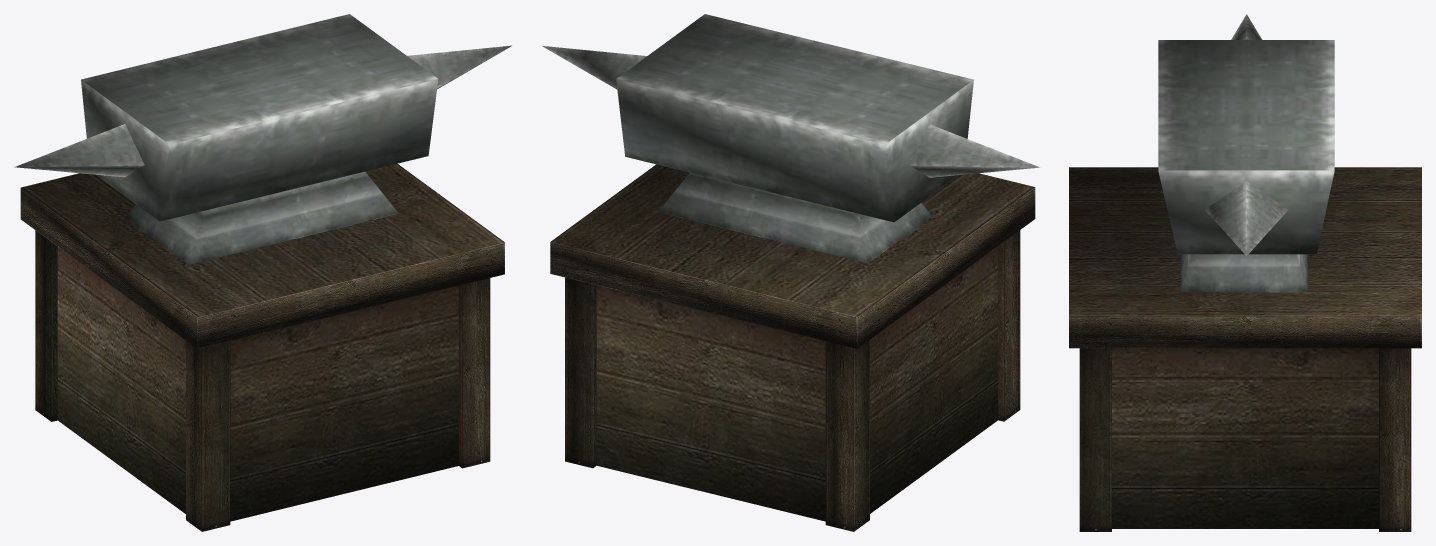
File: ITHC_ANVIL.glb
The picture shows the model from 3 angles, left to right: view 1: azimuth 30°, elevation 25°; view 2: azimuth 150°, elevation 25°; view 3: azimuth 270°, elevation 25°; orthographic projection.
Visible parts, largest first — view 1: Mesh; view 2: Mesh; view 3: Mesh.
Part boxes in pixels (x1,y1,x2,y2): Mesh: (14, 14, 511, 531); Mesh: (541, 14, 1039, 531); Mesh: (1069, 14, 1421, 531).
Bounding box in the file's own units: 1.3 × 0.8884 × 0.7996.
2 materials, 2 textured.
